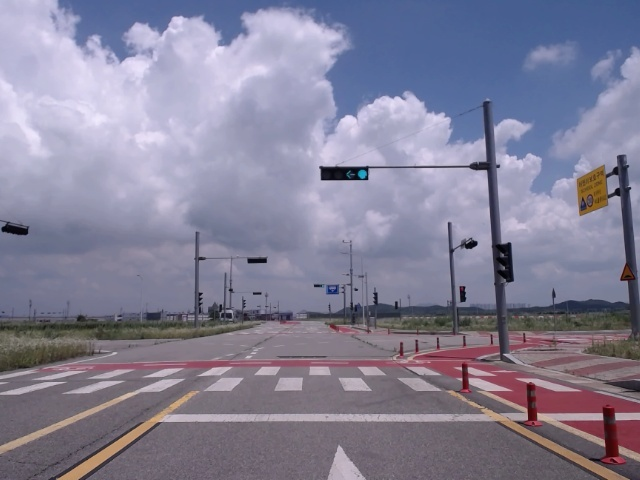all_green_4: (319, 168, 365, 179)
